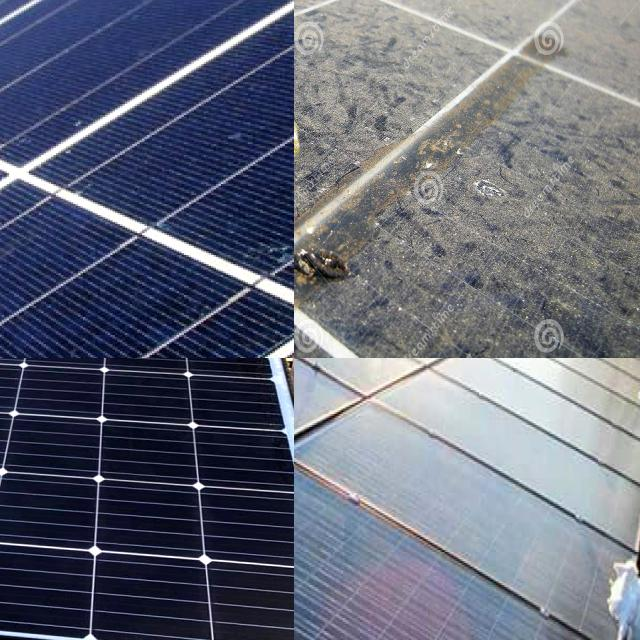bird: (294, 233, 370, 298), (294, 108, 334, 178), (294, 259, 322, 336), (550, 0, 589, 18), (294, 158, 313, 188)
crack: (0, 0, 294, 358), (0, 358, 294, 640), (0, 358, 294, 457), (0, 358, 292, 417)
